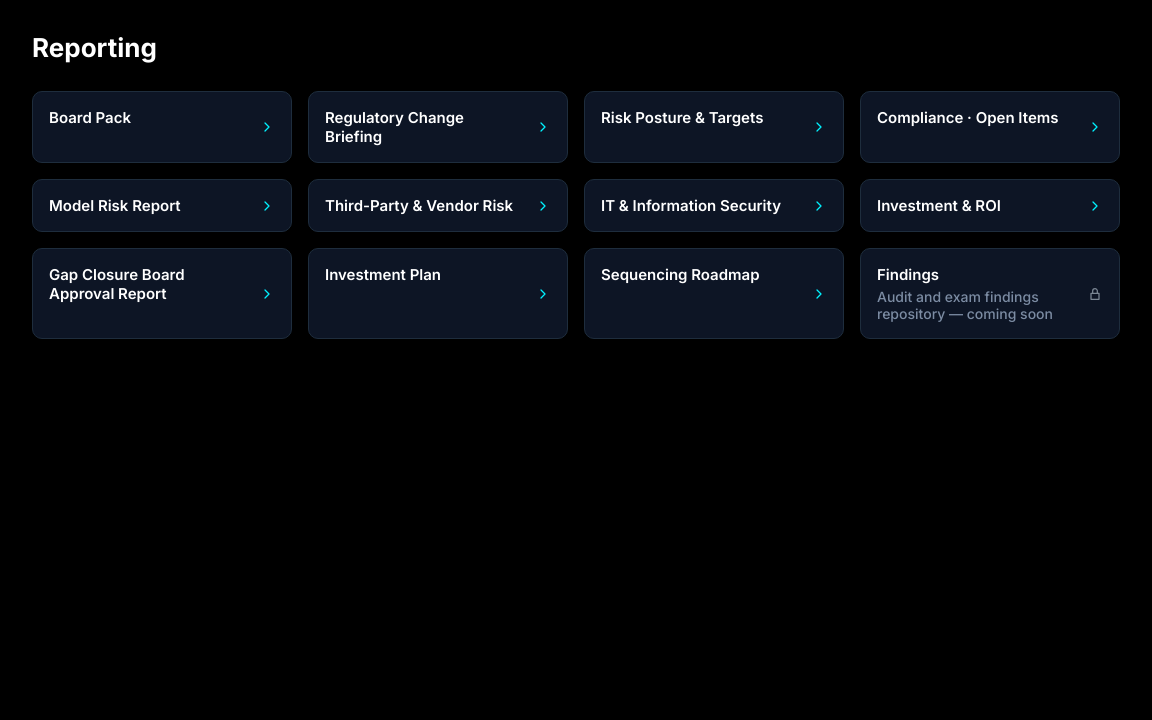
it: RPT-04 — reports recompute from the LIVE levers (base 1477) › a lever change re-renders the open Investment Plan from the new position
What coordinates should you click on to do the following:
click the button "Investment Plan"
I would click on:
 (383, 274)
Its box is [308,248,568,339].
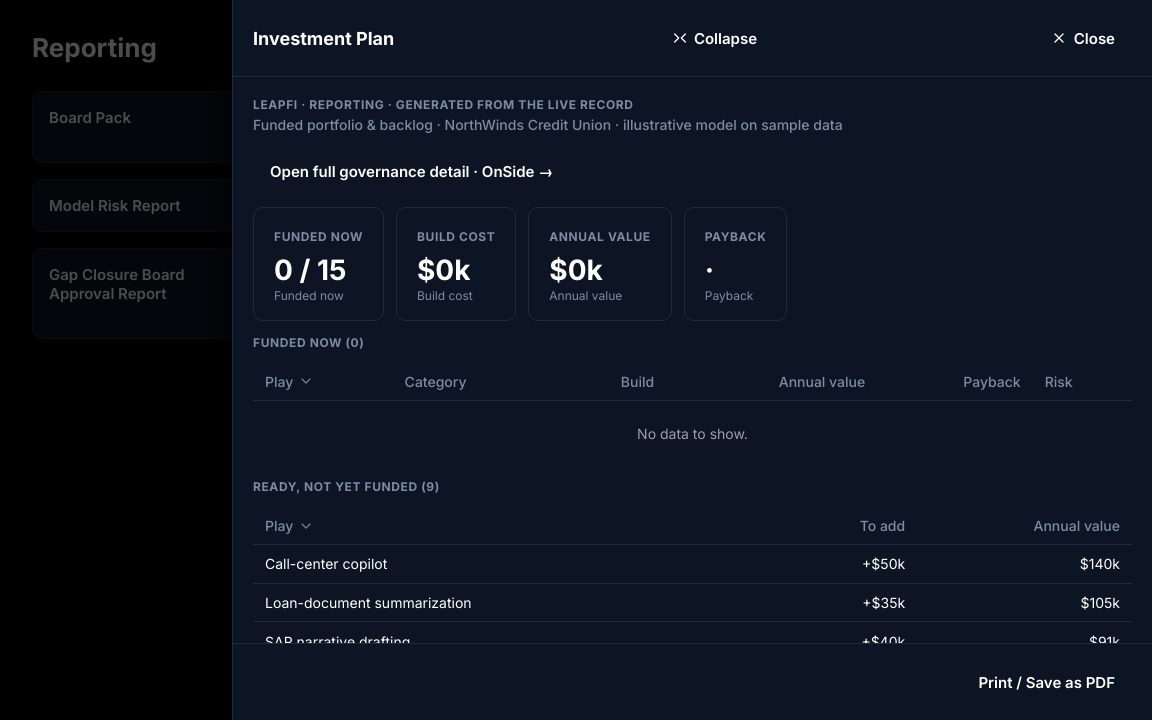
Result: the text "Funded now (0)" is shown at [253,335,364,350]
